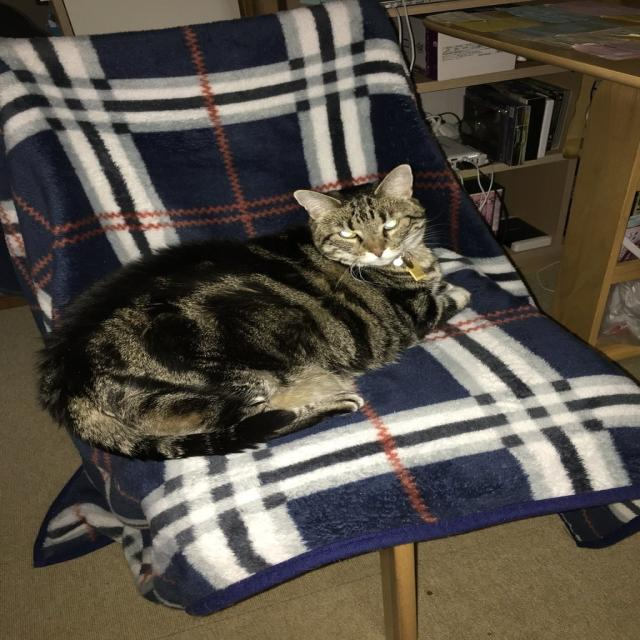Left_ear: (372, 164, 415, 198)
Left_eye: (383, 218, 402, 232), (372, 249, 388, 257)
Nouse: (371, 250, 388, 257)
Right_ear: (289, 187, 345, 223)
Right_eye: (338, 230, 358, 239)
